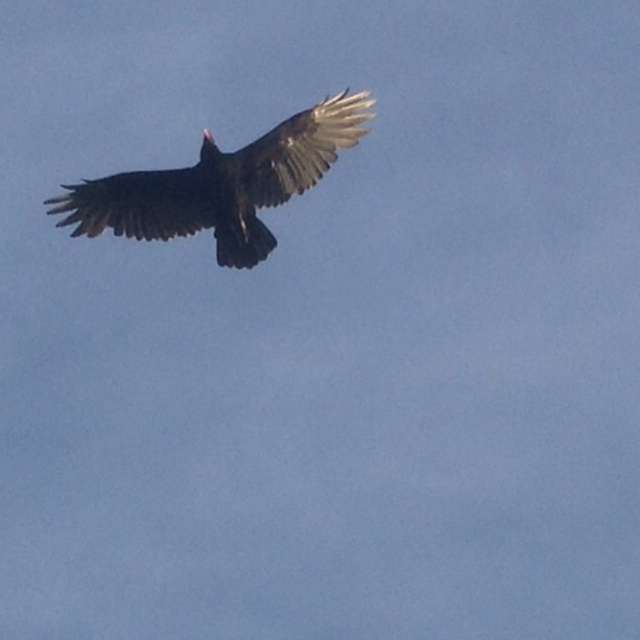Eagle: (42, 85, 378, 271)
